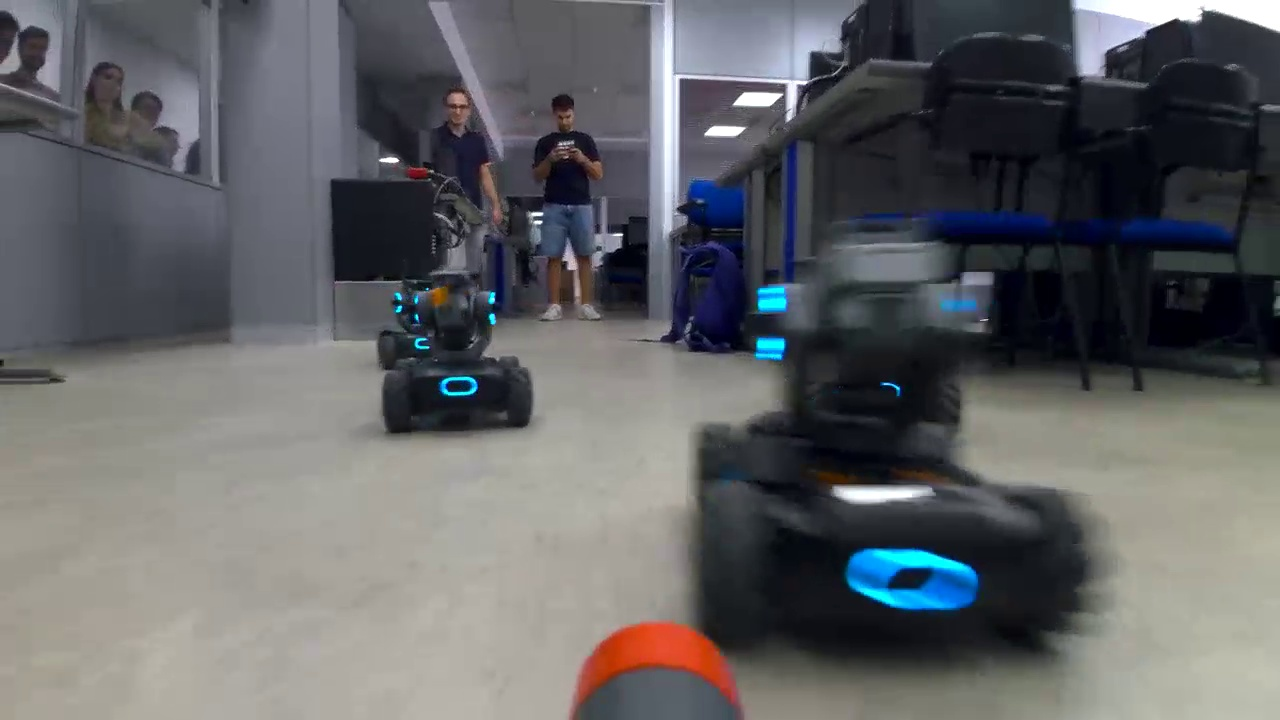robot: (692, 216, 1088, 653), (383, 279, 537, 434), (370, 277, 463, 365)
